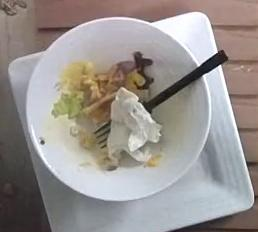salad: (52, 51, 154, 125)
